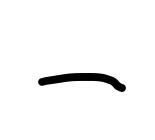minus: (38, 73, 126, 93)
